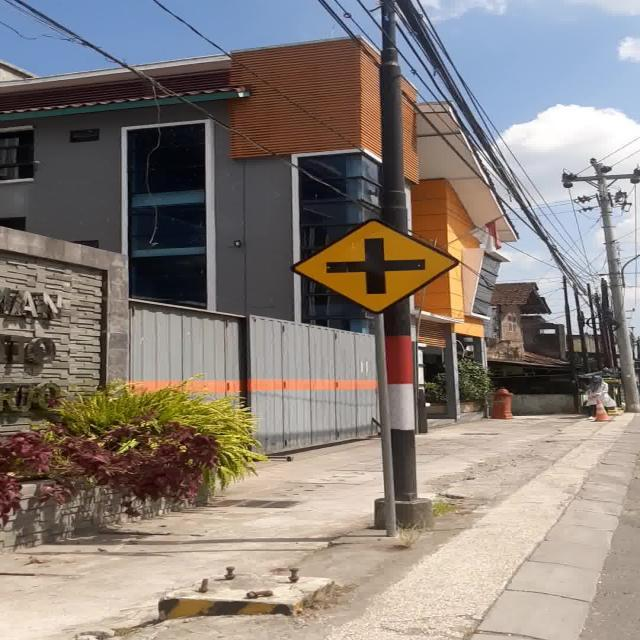Persimpangan 4: (291, 218, 460, 315)
